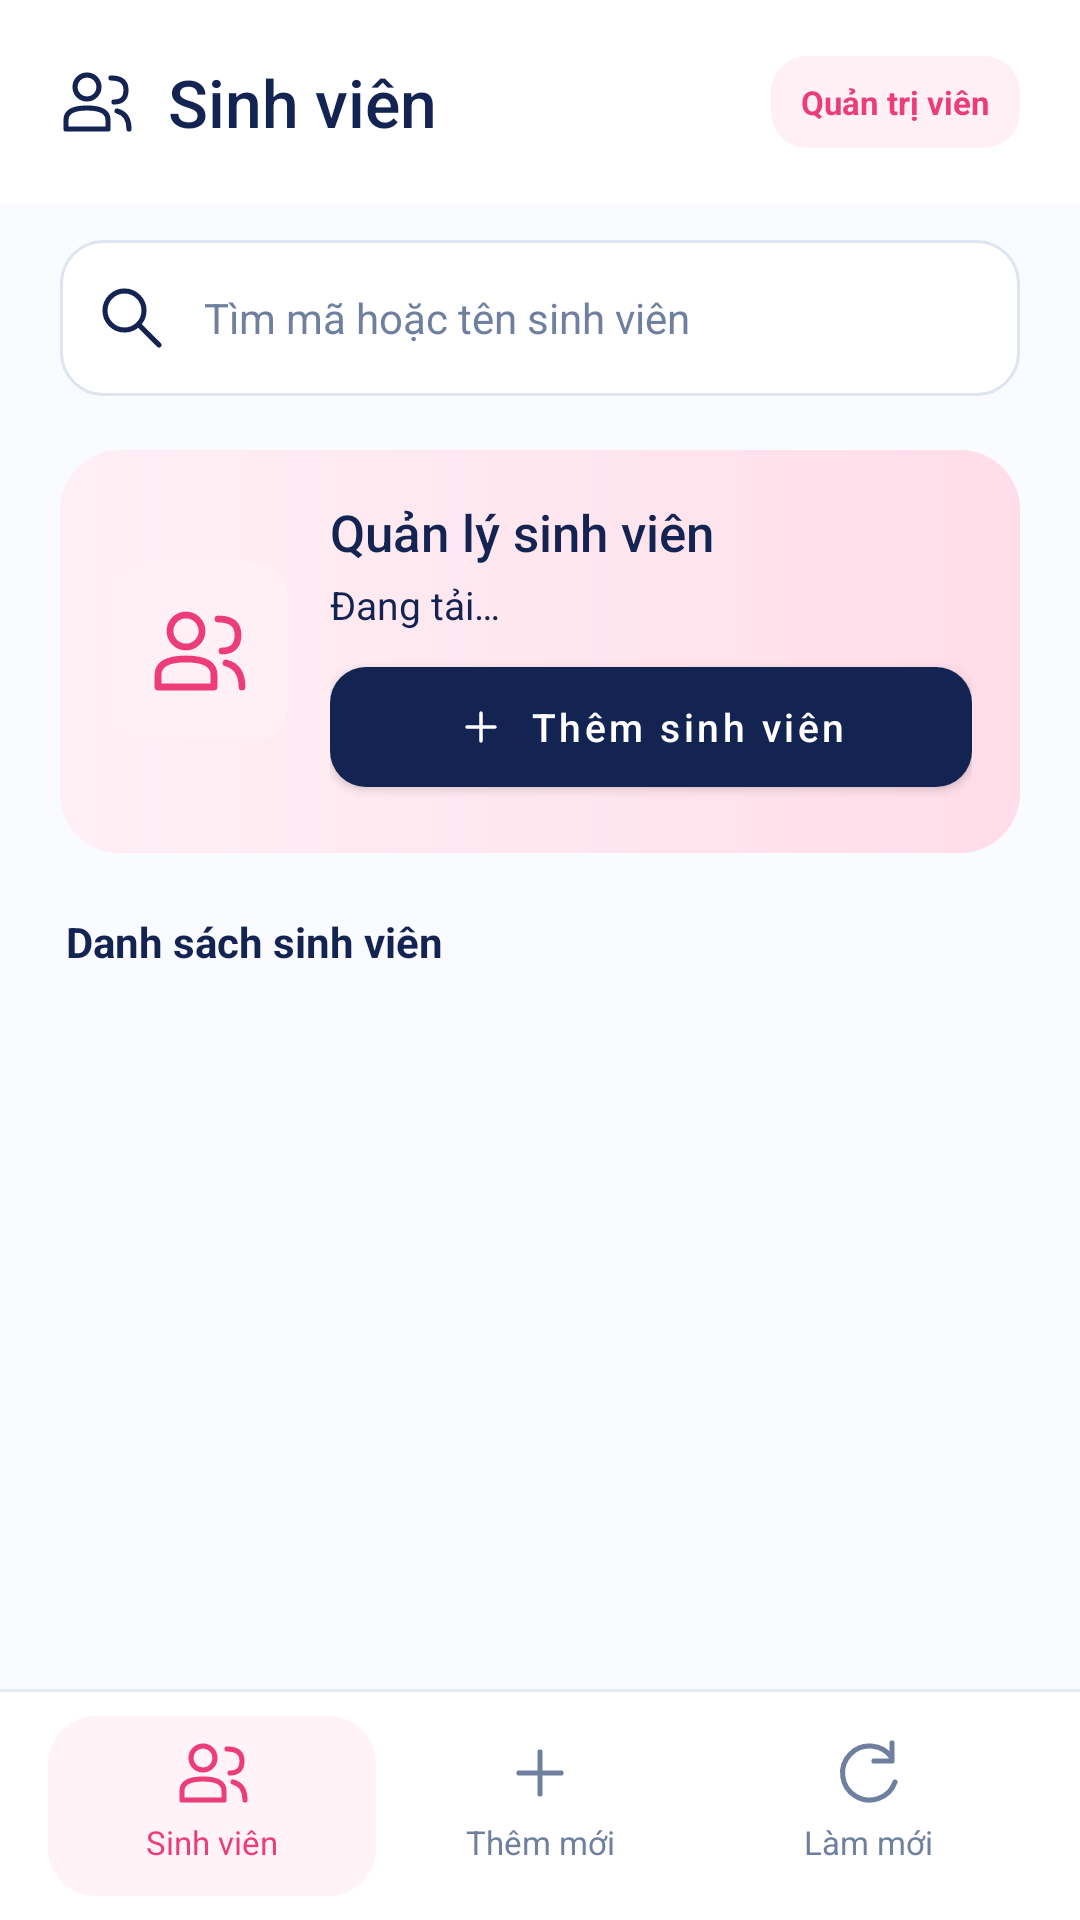

Icon bounding boxes for this 1080px×1920px phone screenshot, format (x1, y1, x2, y2):
student people: (63, 72, 132, 132), (154, 611, 246, 691)
